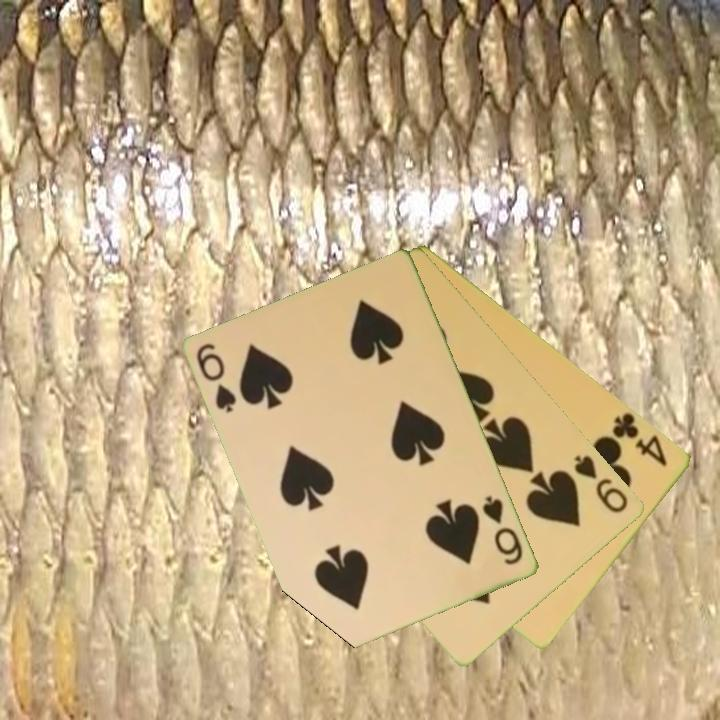4c: (605, 409, 671, 469)
6s: (479, 492, 526, 568), (193, 340, 240, 416)
9s: (571, 451, 632, 516)
